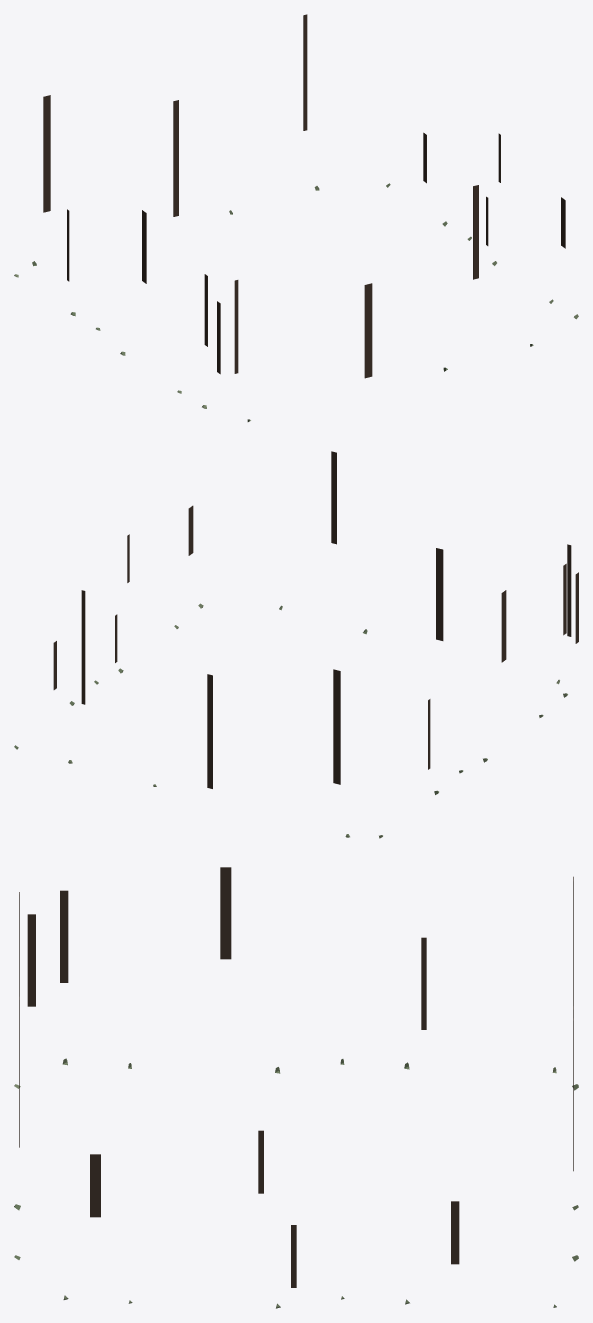
File: weir_gatehouse_detail2.glb
3 views of the same model, one above another, from view 1: azimuth 30°, elevation 25°; view 2: azimuth 150°, elevation 25°; view 3: azimuth 270°, elevation 25° (orthographic). The views are drawn at different scales.
Visible parts, largest first — view 1: weir_gatehouse_detail2_mesh; view 2: weir_gatehouse_detail2_mesh; view 3: weir_gatehouse_detail2_mesh.
Boxes of the visible parts, left/top/right/bottom form: weir_gatehouse_detail2_mesh: left=14, top=14, right=578, bottom=421; weir_gatehouse_detail2_mesh: left=14, top=451, right=578, bottom=838; weir_gatehouse_detail2_mesh: left=14, top=867, right=578, bottom=1308.
Size of the model in its own units: 12.24 by 5.78 by 12.24.
